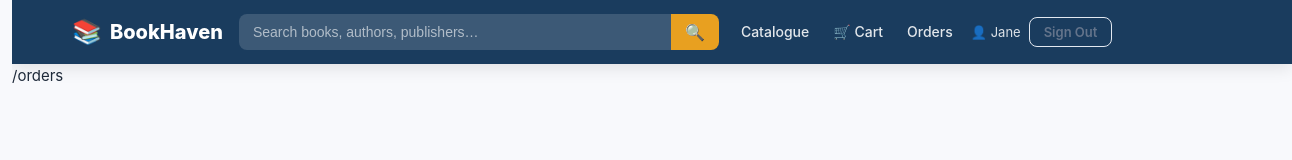
Navbar › Sign Out clears the session, returns home and swaps the links back
Step 1. Click the button "Sign Out" → x=1070, y=32, box [1029, 17, 1112, 47]
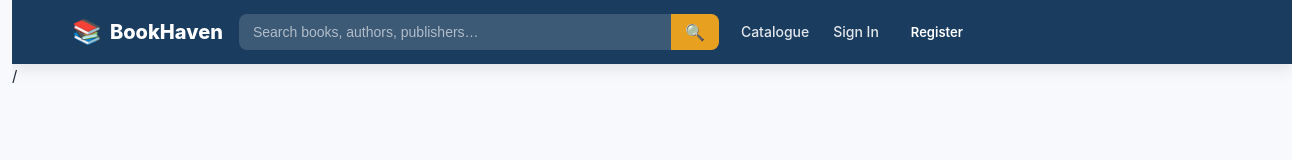
Expected: the text with test id "loc" reads "/", [12, 66, 17, 85]
Result: the link "Sign In" is shown at [833, 23, 879, 40]
